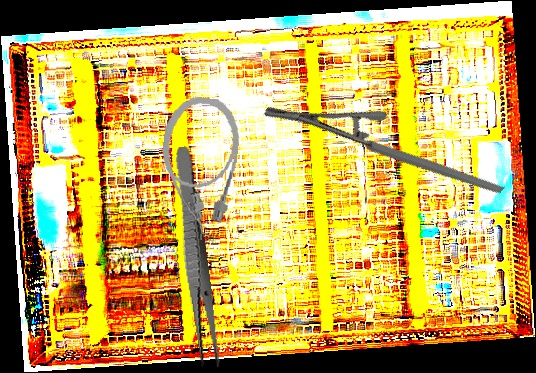Cannula: (152, 93, 244, 244)
Dressing Forceps: (168, 145, 223, 370)
Needle Holder: (261, 42, 505, 261)
